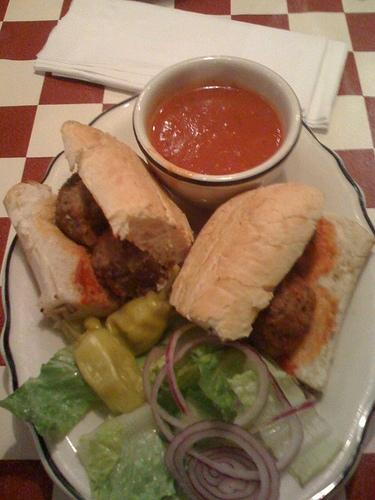lettuce: (228, 356, 343, 488), (76, 402, 178, 500), (2, 344, 102, 438), (188, 342, 247, 422), (134, 308, 188, 373), (156, 362, 202, 418)
onion: (150, 335, 303, 482), (164, 420, 280, 499), (174, 428, 270, 500), (224, 340, 272, 428), (166, 322, 199, 424), (246, 402, 320, 436), (195, 460, 260, 498), (210, 457, 250, 492)
